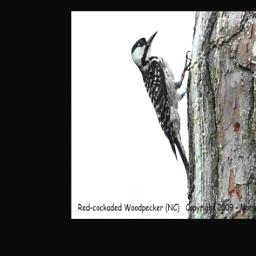Woodpecker: (129, 30, 193, 189)
